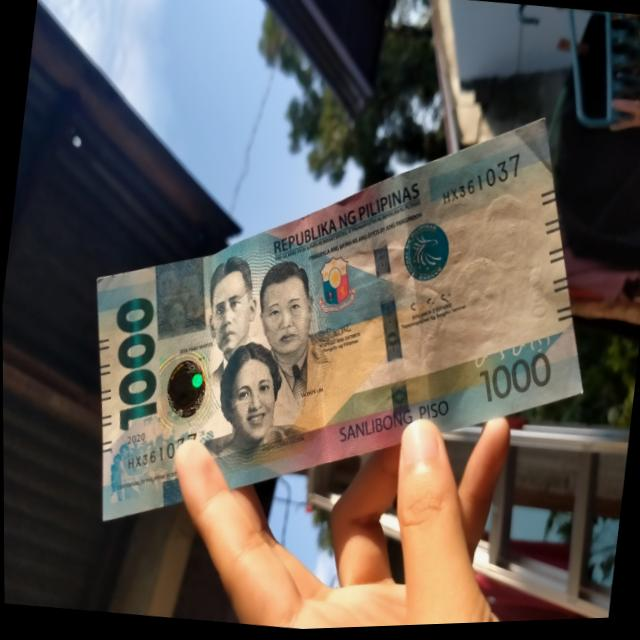concealed_value: (154, 258, 205, 340)
optically_variable_device: (158, 345, 211, 432)
security_thread: (364, 184, 413, 445)
see_through_mark: (465, 324, 556, 378)
serial_number: (435, 145, 525, 219), (123, 424, 200, 478)
value: (110, 284, 160, 435)
value_watermark: (517, 260, 557, 328)
watermark: (415, 187, 531, 362)
